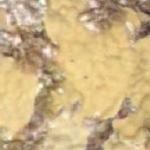alive: (1, 4, 147, 148), (3, 3, 146, 147)
